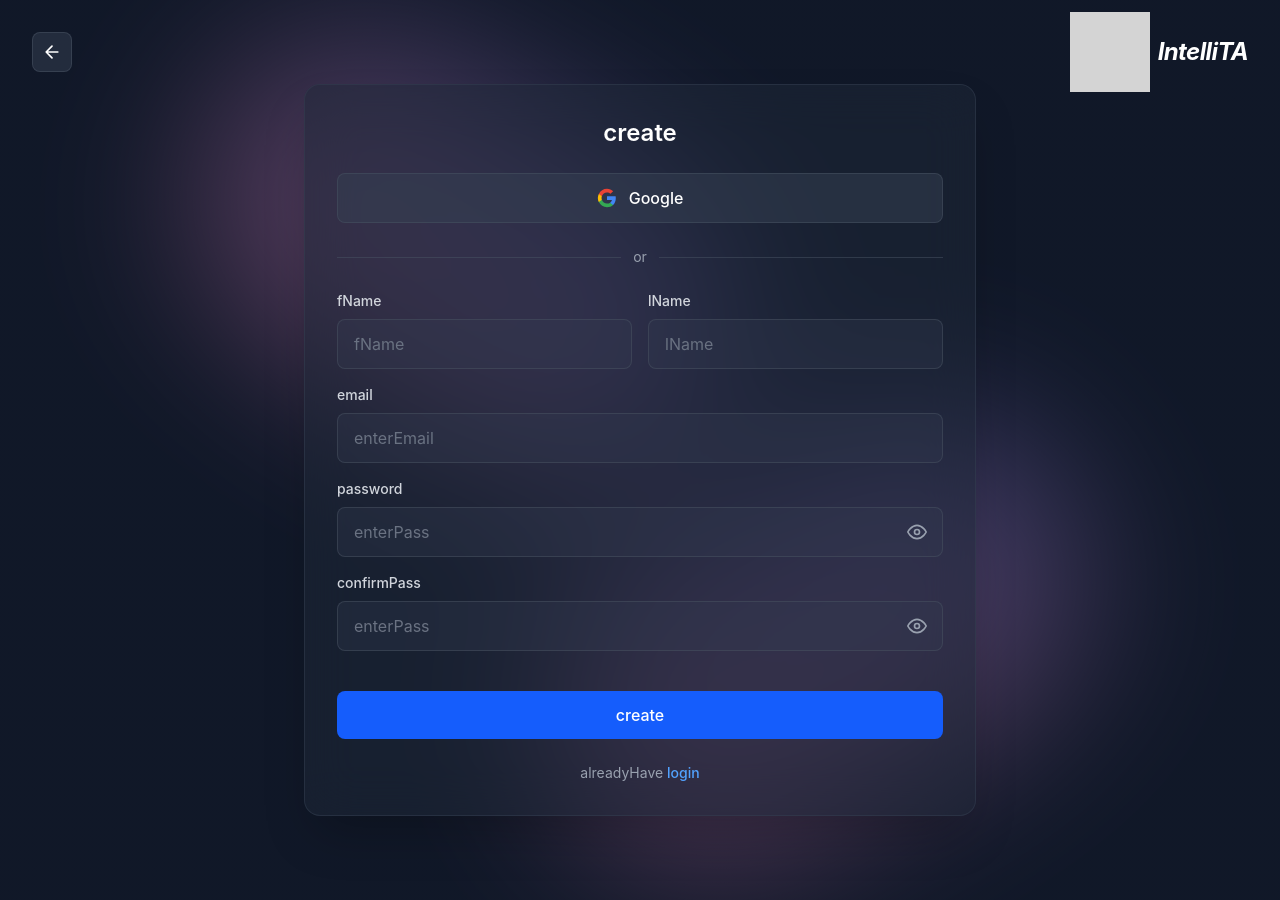
SignUp — email/password flow › invalid-email shows errInvalidEmail
This screenshot has width=1280, height=900.
Step 1. Type "Test" into the field labelled "fName" → (484, 344), box [337,319,632,369]
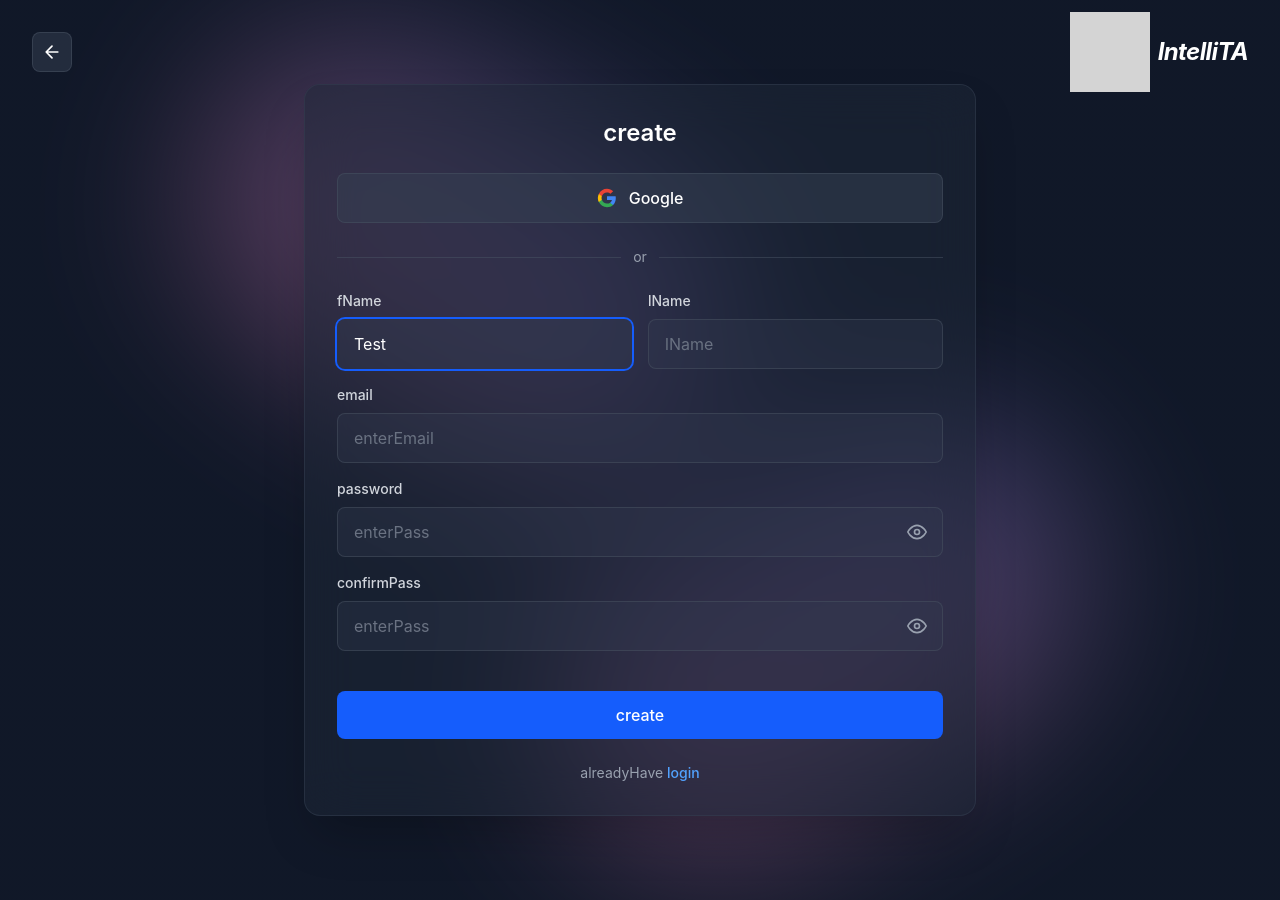
Step 2. Type "User" into the field labelled "lName" → (796, 344), box [648,319,943,369]
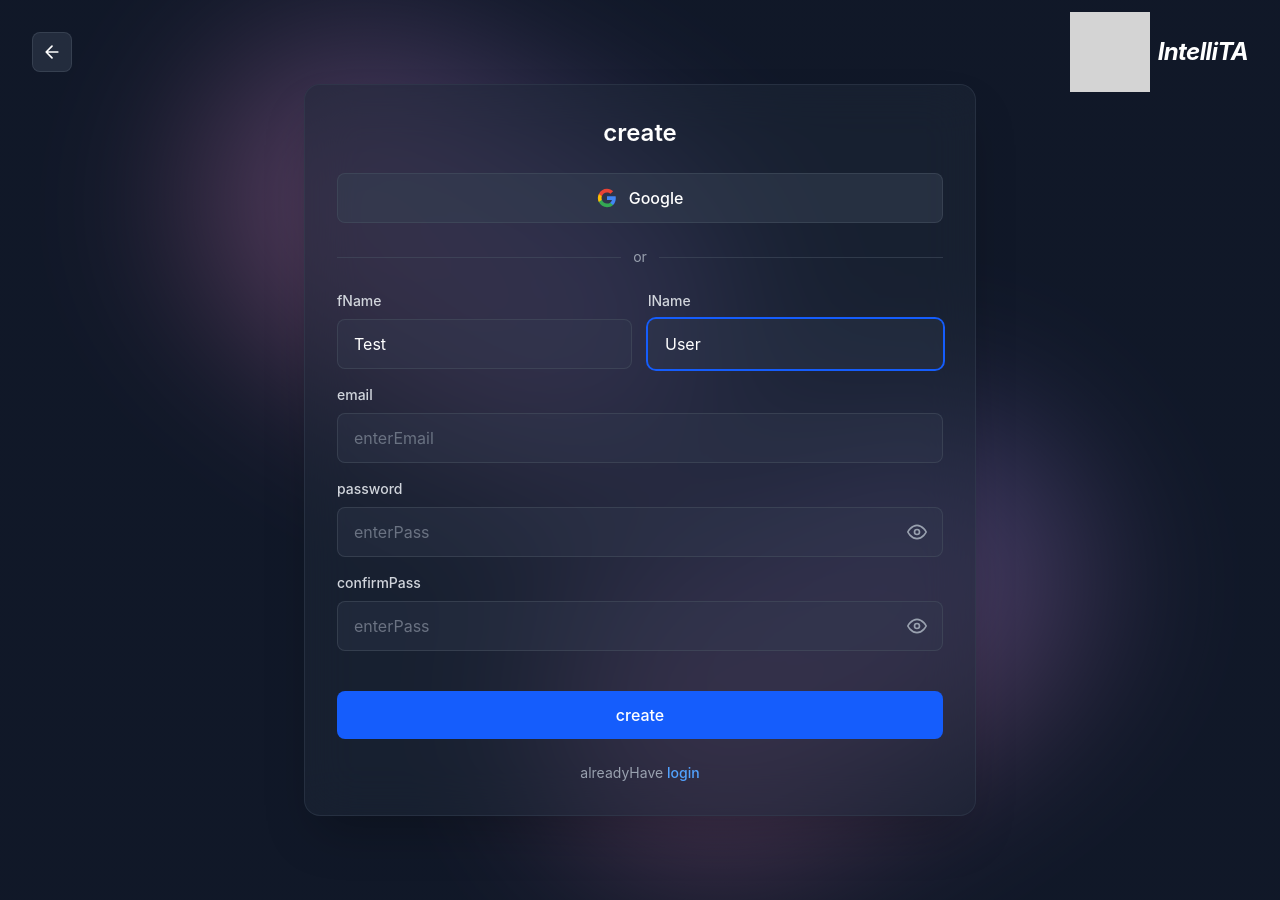
Step 3. Type "student@stu.kau.edu.sa" into the field labelled "email" → (640, 438), box [337,413,943,463]
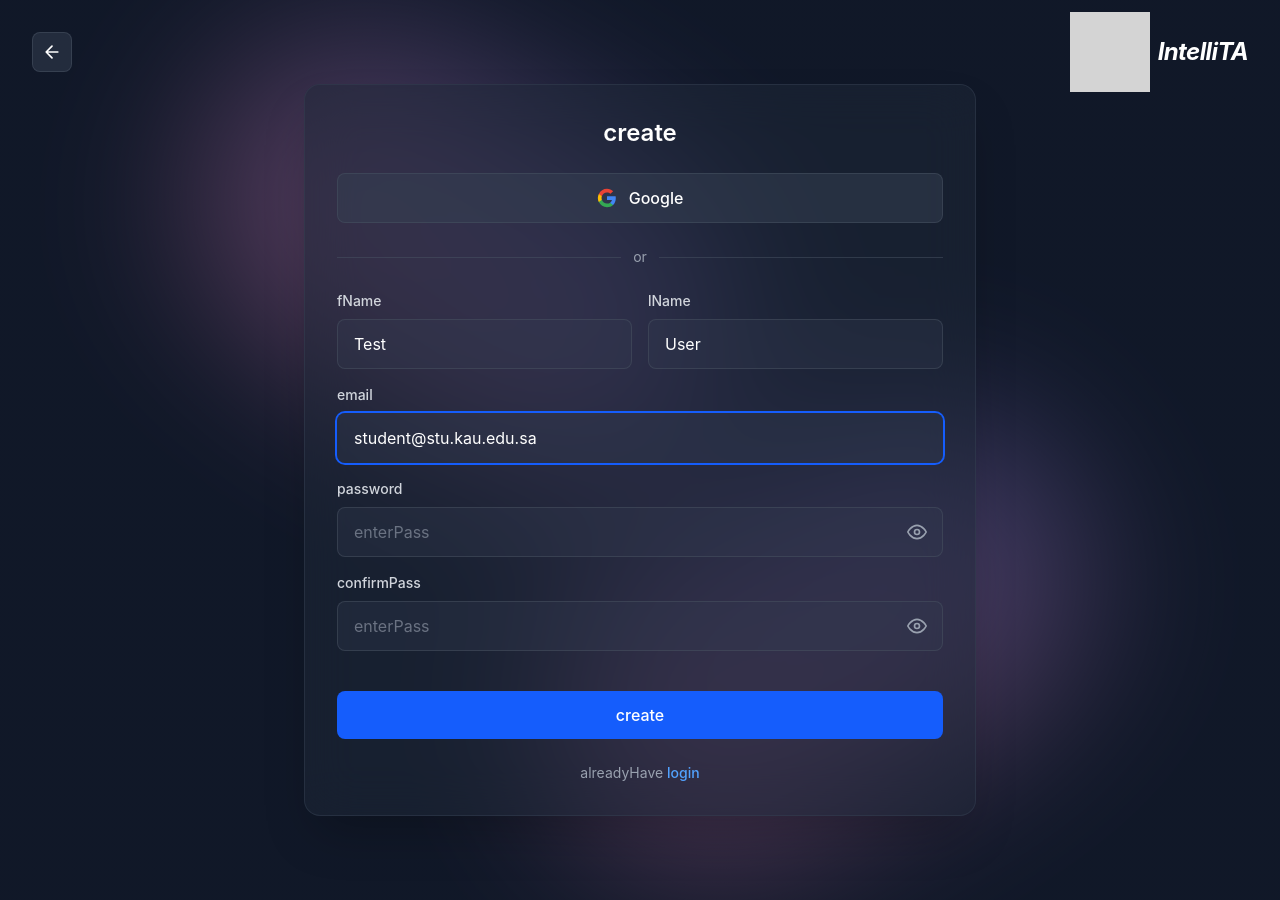
Step 4. Type "password123" into the password field labelled "password" → (640, 532), box [337,507,943,557]
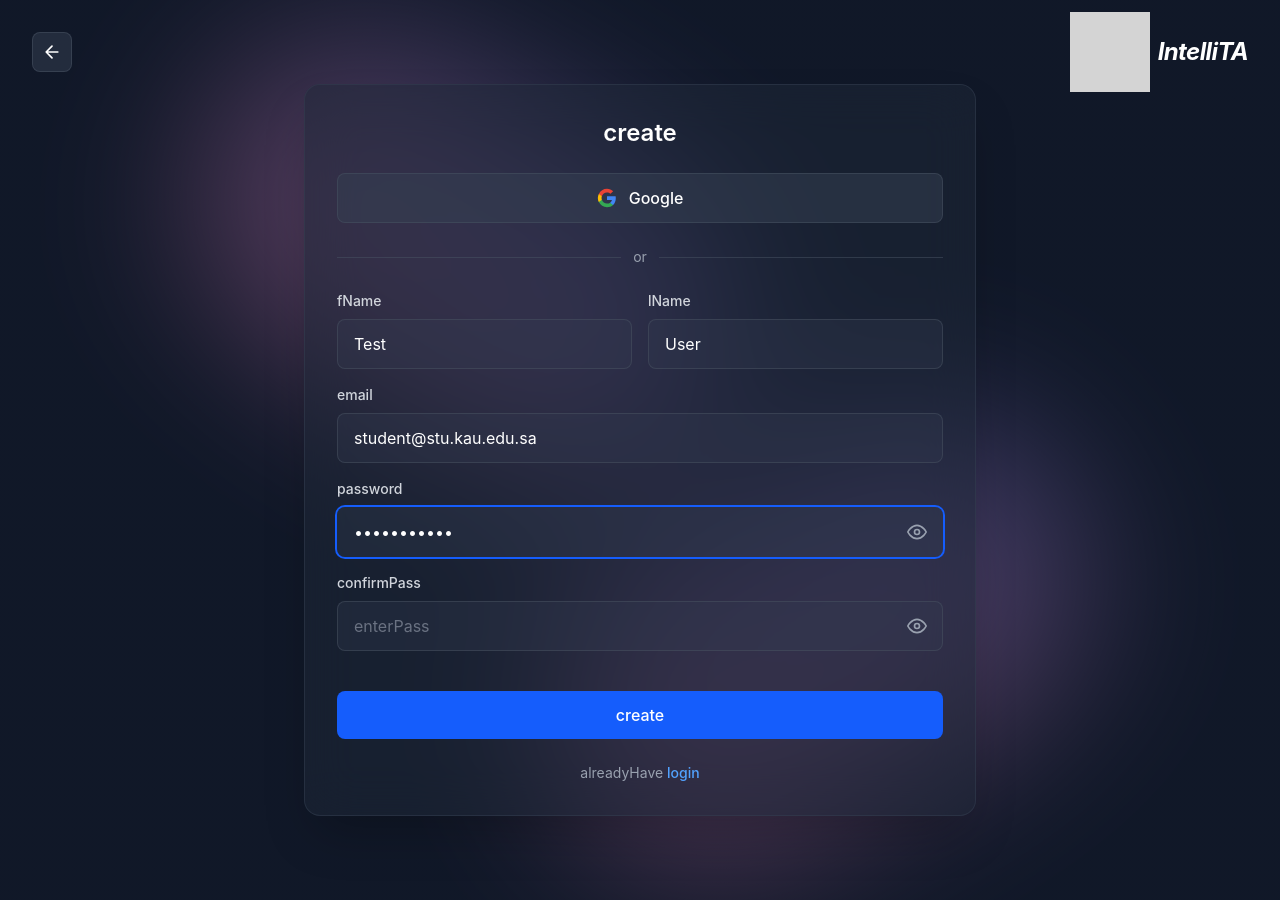
Step 5. Type "password123" into the password field labelled "confirmPass" → (640, 626), box [337,601,943,651]
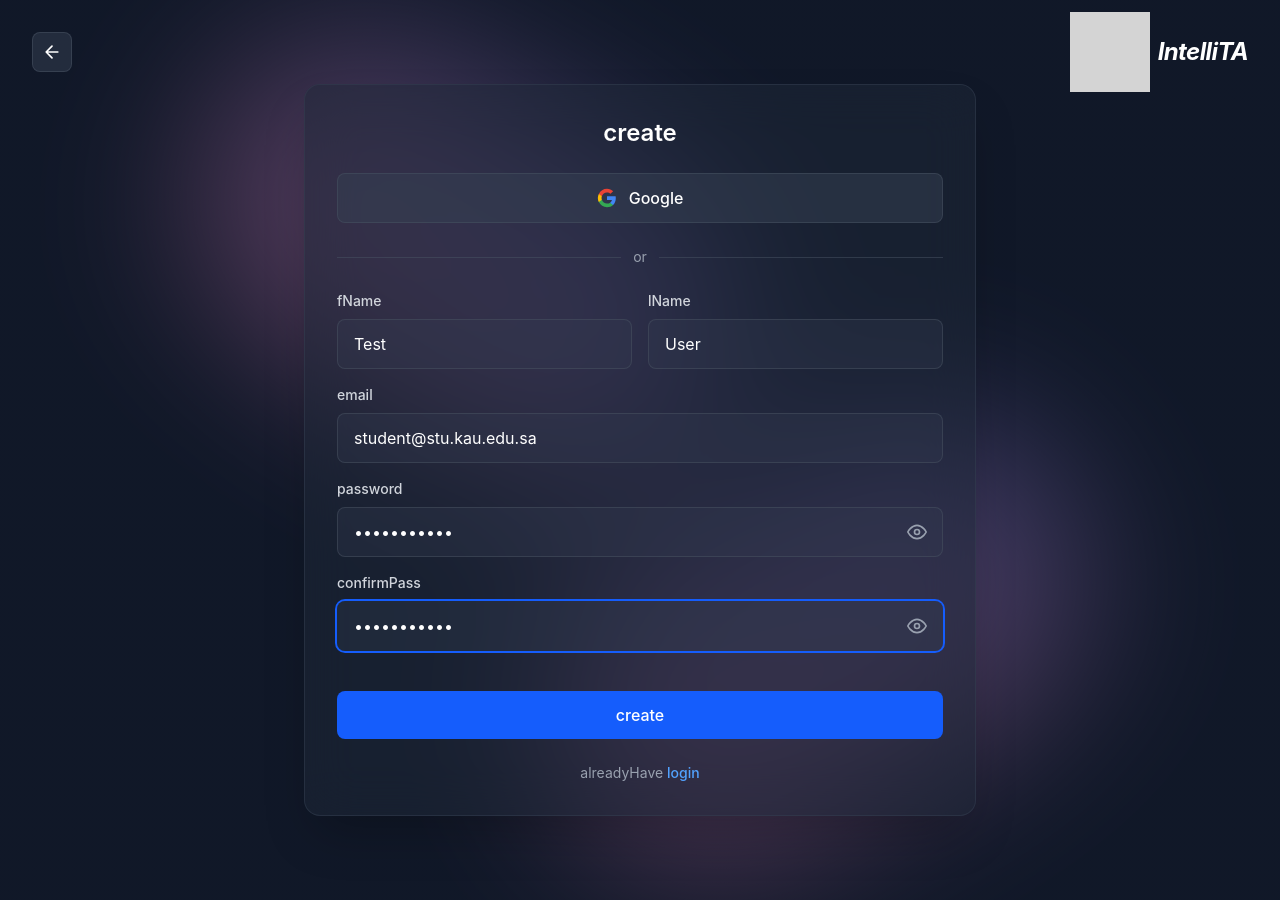
Step 6. Click the submit button → (640, 715), box [337,691,943,739]
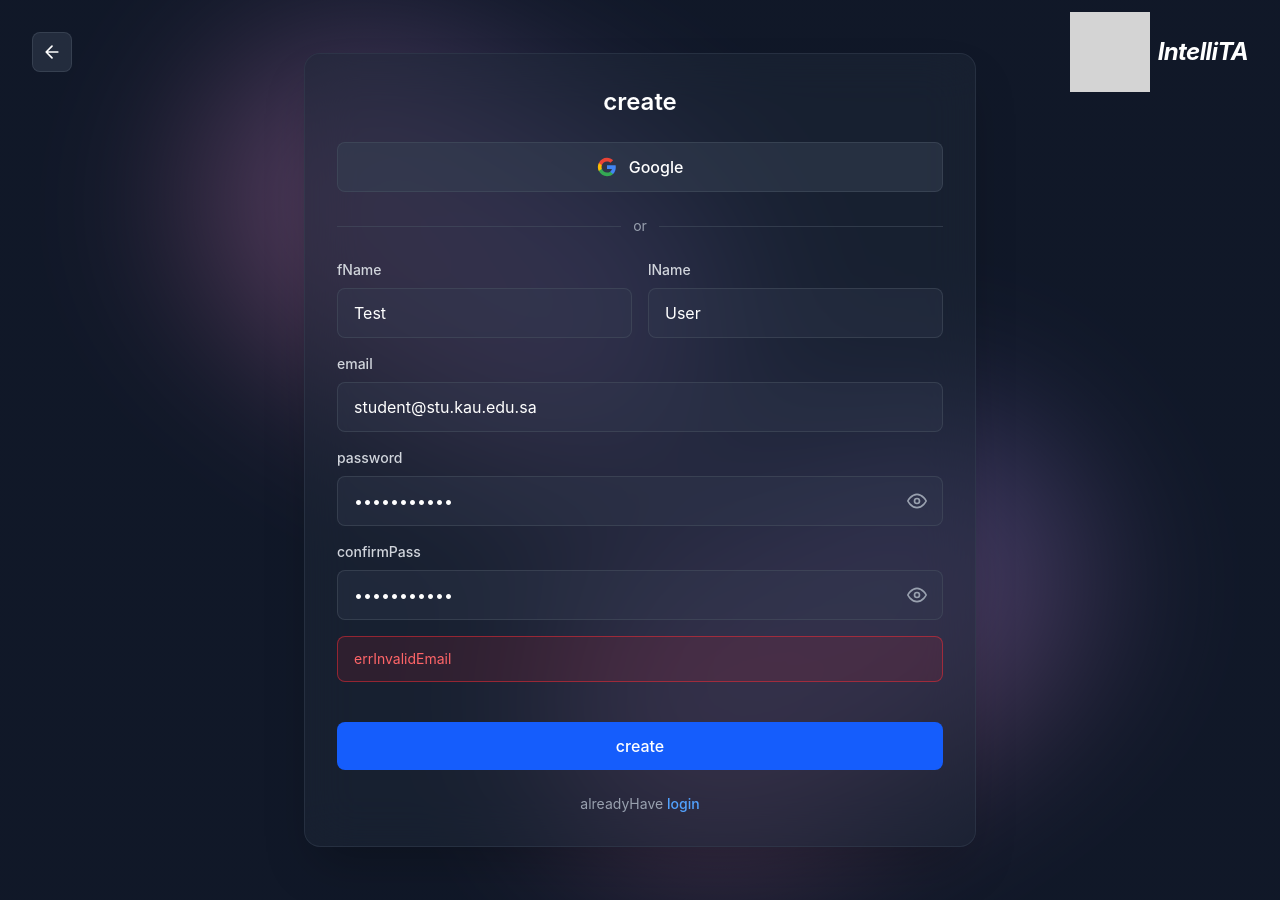
Expected: the text "errInvalidEmail" is shown, [337,636,943,682]
